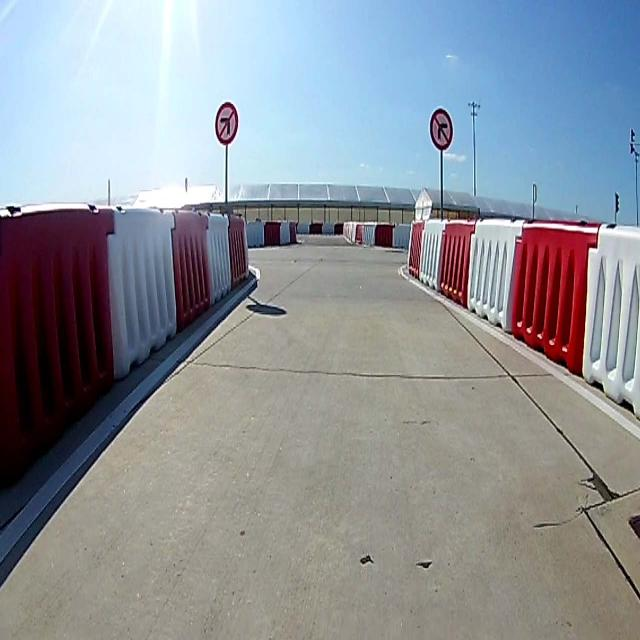sagadonulmez: (430, 108, 453, 148)
soladonulmez: (215, 101, 238, 144)
